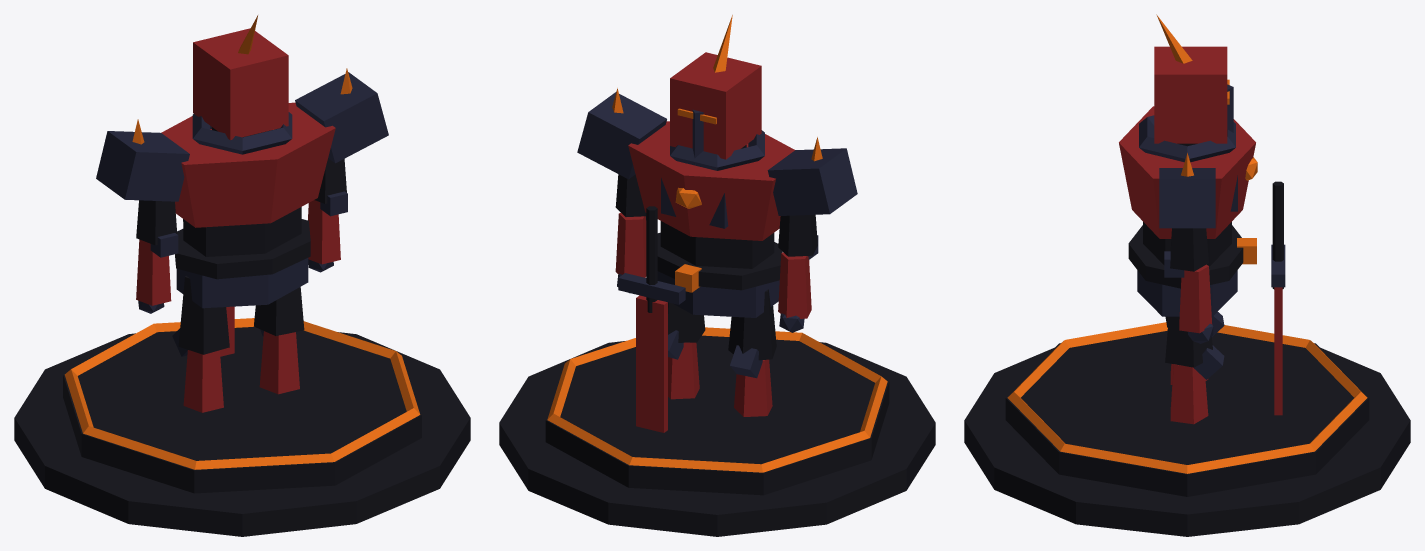
The model's file is vanguard.glb.
3 renders of one model, left to right at view 1: azimuth 30°, elevation 25°; view 2: azimuth 150°, elevation 25°; view 3: azimuth 270°, elevation 25°, orthographic. The views are drawn at different scales.
Parts seen in each view (by area): view 1: Pedestal_Top_-6.0, Pedestal_Base_-6.0, Ignis_Valen_Chest, Cube.010, Pedestal_RuneRing_-6.0, Cube.008, Cube.009, Ignis_Valen_Pelvis, Cylinder, Cylinder.001, Cone, Cone.001 (+7 smaller); view 2: Pedestal_Top_-6.0, Pedestal_Base_-6.0, Ignis_Valen_Chest, Cube.010, Pedestal_RuneRing_-6.0, Cube.008, Cube.009, Cube.013, Cylinder.001, Ignis_Valen_Pelvis, Cylinder, Cone.005 (+13 smaller); view 3: Pedestal_Top_-6.0, Pedestal_Base_-6.0, Cube.010, Pedestal_RuneRing_-6.0, Ignis_Valen_Chest, Cube.009, Cylinder, Cone.003, Cone.007, Torus.001, Ignis_Valen_Pelvis, Cone.006 (+5 smaller).
Part boxes in pixels (left/top/right/bottom): Pedestal_Top_-6.0: left=63, top=327, right=421, bottom=493; Pedestal_Base_-6.0: left=14, top=332, right=470, bottom=536; Ignis_Valen_Chest: left=161, top=102, right=335, bottom=227; Cube.010: left=193, top=28, right=288, bottom=140; Pedestal_RuneRing_-6.0: left=64, top=318, right=420, bottom=469; Cube.008: left=96, top=131, right=189, bottom=201; Cube.009: left=295, top=72, right=388, bottom=163; Ignis_Valen_Pelvis: left=176, top=258, right=308, bottom=308; Cylinder: left=175, top=219, right=310, bottom=279; Cylinder.001: left=183, top=207, right=301, bottom=256; Cone: left=178, top=276, right=229, bottom=354; Cone.001: left=183, top=350, right=223, bottom=412; Pedestal_Top_-6.0: left=545, top=335, right=889, bottom=495; Pedestal_Base_-6.0: left=499, top=341, right=935, bottom=536; Ignis_Valen_Chest: left=628, top=121, right=794, bottom=240; Cube.010: left=670, top=52, right=761, bottom=159; Pedestal_RuneRing_-6.0: left=547, top=327, right=887, bottom=472; Cube.008: left=767, top=148, right=857, bottom=215; Cube.009: left=577, top=92, right=666, bottom=179; Cube.013: left=636, top=295, right=667, bottom=432; Cylinder.001: left=660, top=221, right=774, bottom=268; Ignis_Valen_Pelvis: left=657, top=271, right=779, bottom=317; Cylinder: left=657, top=232, right=782, bottom=290; Cone.005: left=778, top=252, right=811, bottom=318; Pedestal_Top_-6.0: left=1005, top=330, right=1369, bottom=496; Pedestal_Base_-6.0: left=964, top=347, right=1410, bottom=536; Cube.010: left=1154, top=46, right=1227, bottom=143; Pedestal_RuneRing_-6.0: left=1007, top=322, right=1367, bottom=473; Ignis_Valen_Chest: left=1119, top=106, right=1255, bottom=238; Cube.009: left=1159, top=168, right=1215, bottom=228; Cylinder: left=1128, top=225, right=1243, bottom=288; Cone.003: left=1170, top=364, right=1208, bottom=424; Cone.007: left=1179, top=264, right=1212, bottom=333; Torus.001: left=1139, top=115, right=1235, bottom=162; Ignis_Valen_Pelvis: left=1137, top=270, right=1237, bottom=316; Cone.006: left=1170, top=228, right=1208, bottom=271.
Size of the model in its own units: 2.7 by 2.86 by 2.7.
